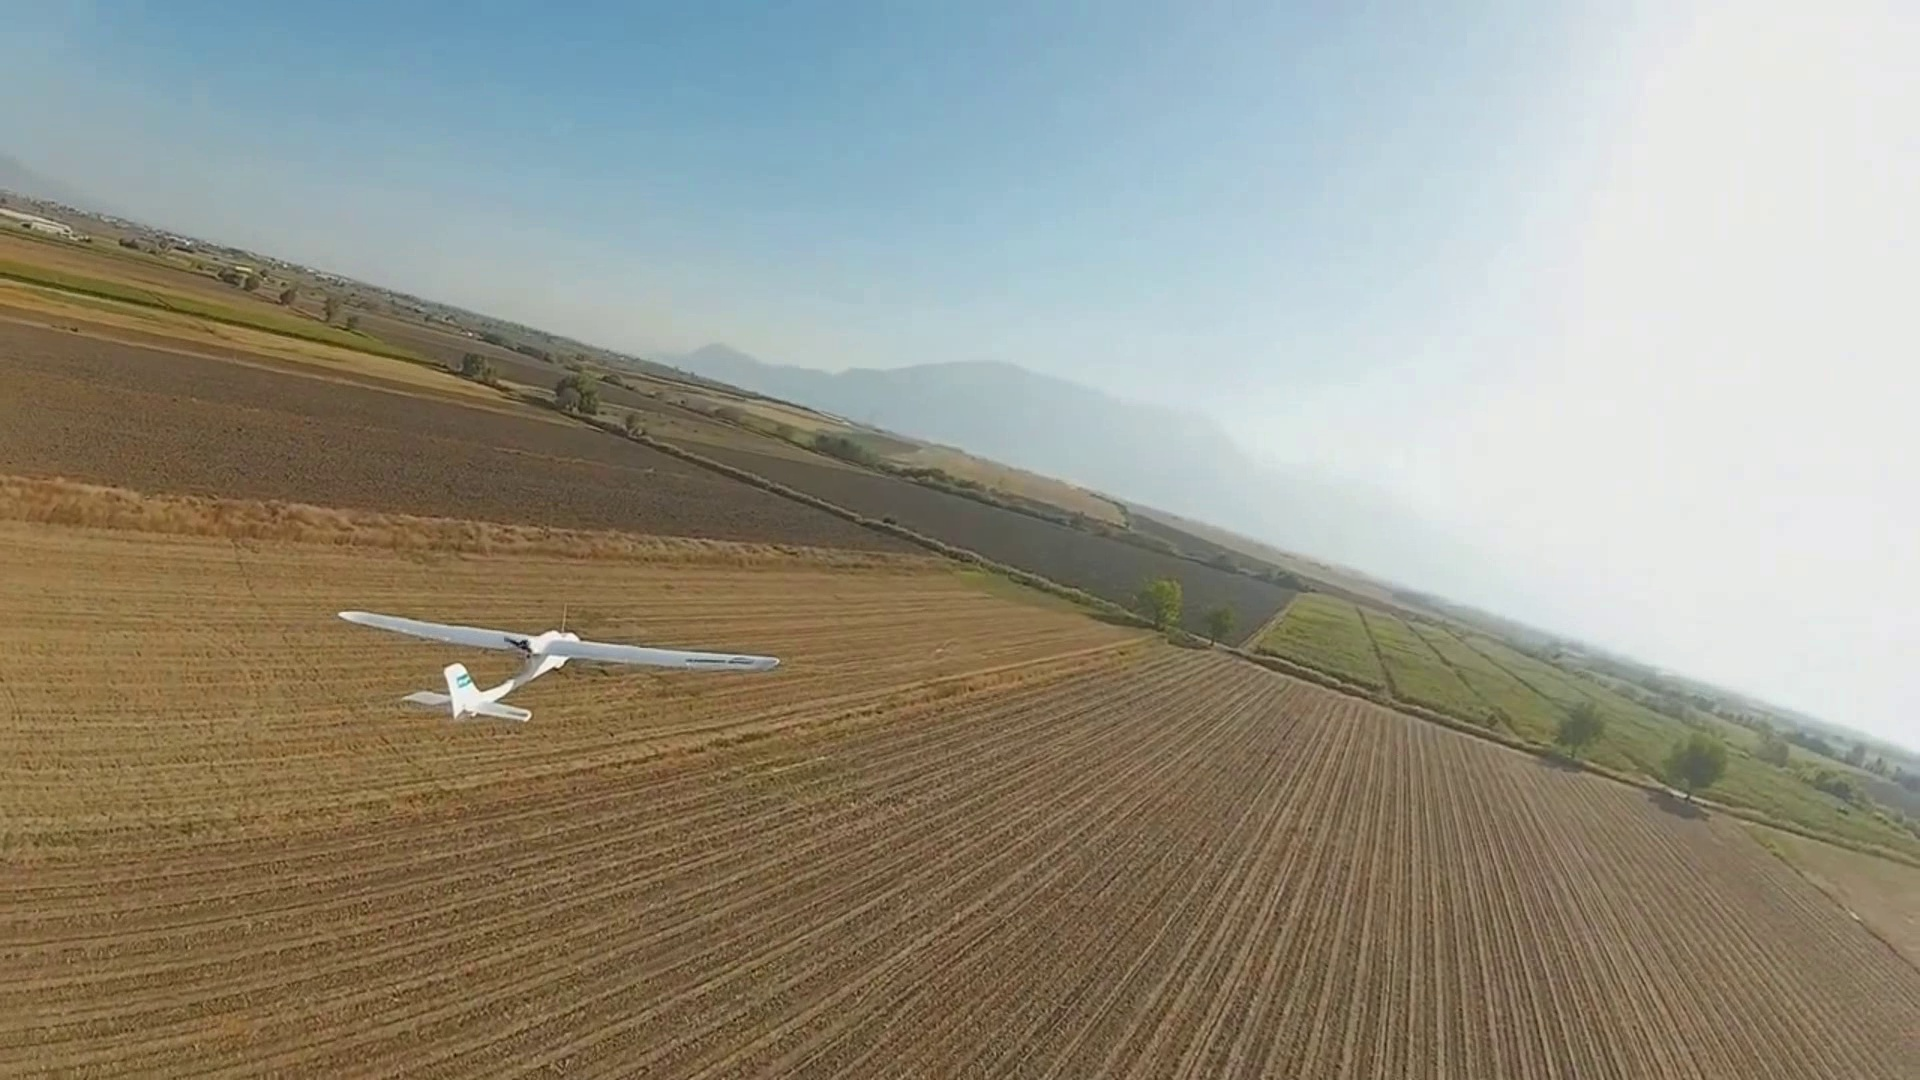airplane: (336, 607, 781, 718)
